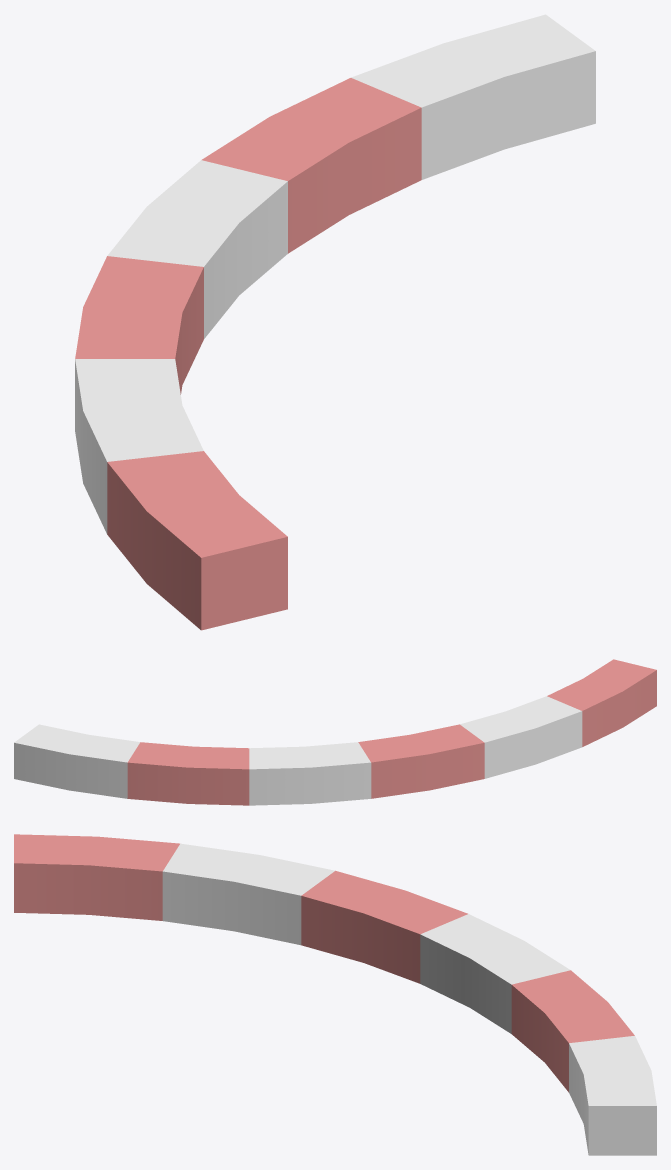
File: roadCornerLargeWallInner.glb
The picture shows the model from 3 angles, top to bottom: view 1: azimuth 30°, elevation 25°; view 2: azimuth 150°, elevation 25°; view 3: azimuth 270°, elevation 25°; orthographic projection. The views are drawn at different scales.
Parts seen in each view (by area): view 1: roadCornerLargeWallInner(Clone); view 2: roadCornerLargeWallInner(Clone); view 3: roadCornerLargeWallInner(Clone).
Boxes of the visible parts, x1,y1,x2,y2 form: roadCornerLargeWallInner(Clone): (75,14,595,630); roadCornerLargeWallInner(Clone): (14,659,656,805); roadCornerLargeWallInner(Clone): (14,834,656,1155).
Size of the model in its own units: 0.47 by 0.04 by 0.47.
